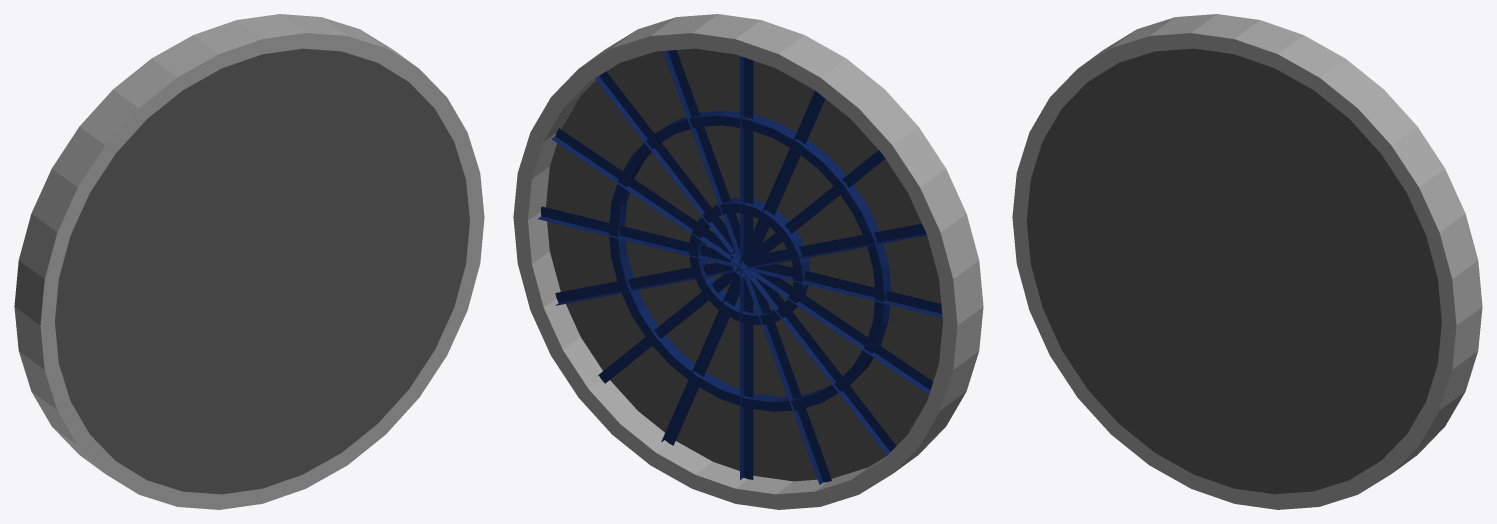
Rendered from fist_floor_side_face_round_window.glb.
3 views of the same model, side by side, from view 1: azimuth 30°, elevation 25°; view 2: azimuth 150°, elevation 25°; view 3: azimuth 330°, elevation 25° (orthographic).
Visible parts, largest first — view 1: round_window_frame; view 2: round_window_frame; view 3: round_window_frame.
Boxes of the visible parts, <box> form: round_window_frame: <box>14,14,484,509</box>; round_window_frame: <box>513,14,983,509</box>; round_window_frame: <box>1012,14,1482,509</box>.
Bounding box in the file's own units: 2.14 × 2.14 × 0.2173.
